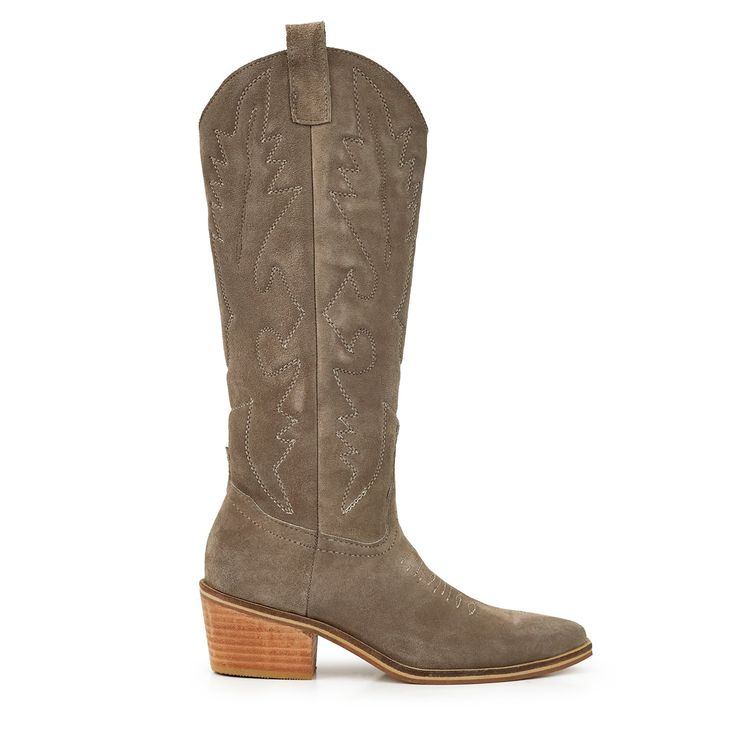gamuza: (199, 21, 588, 669)
